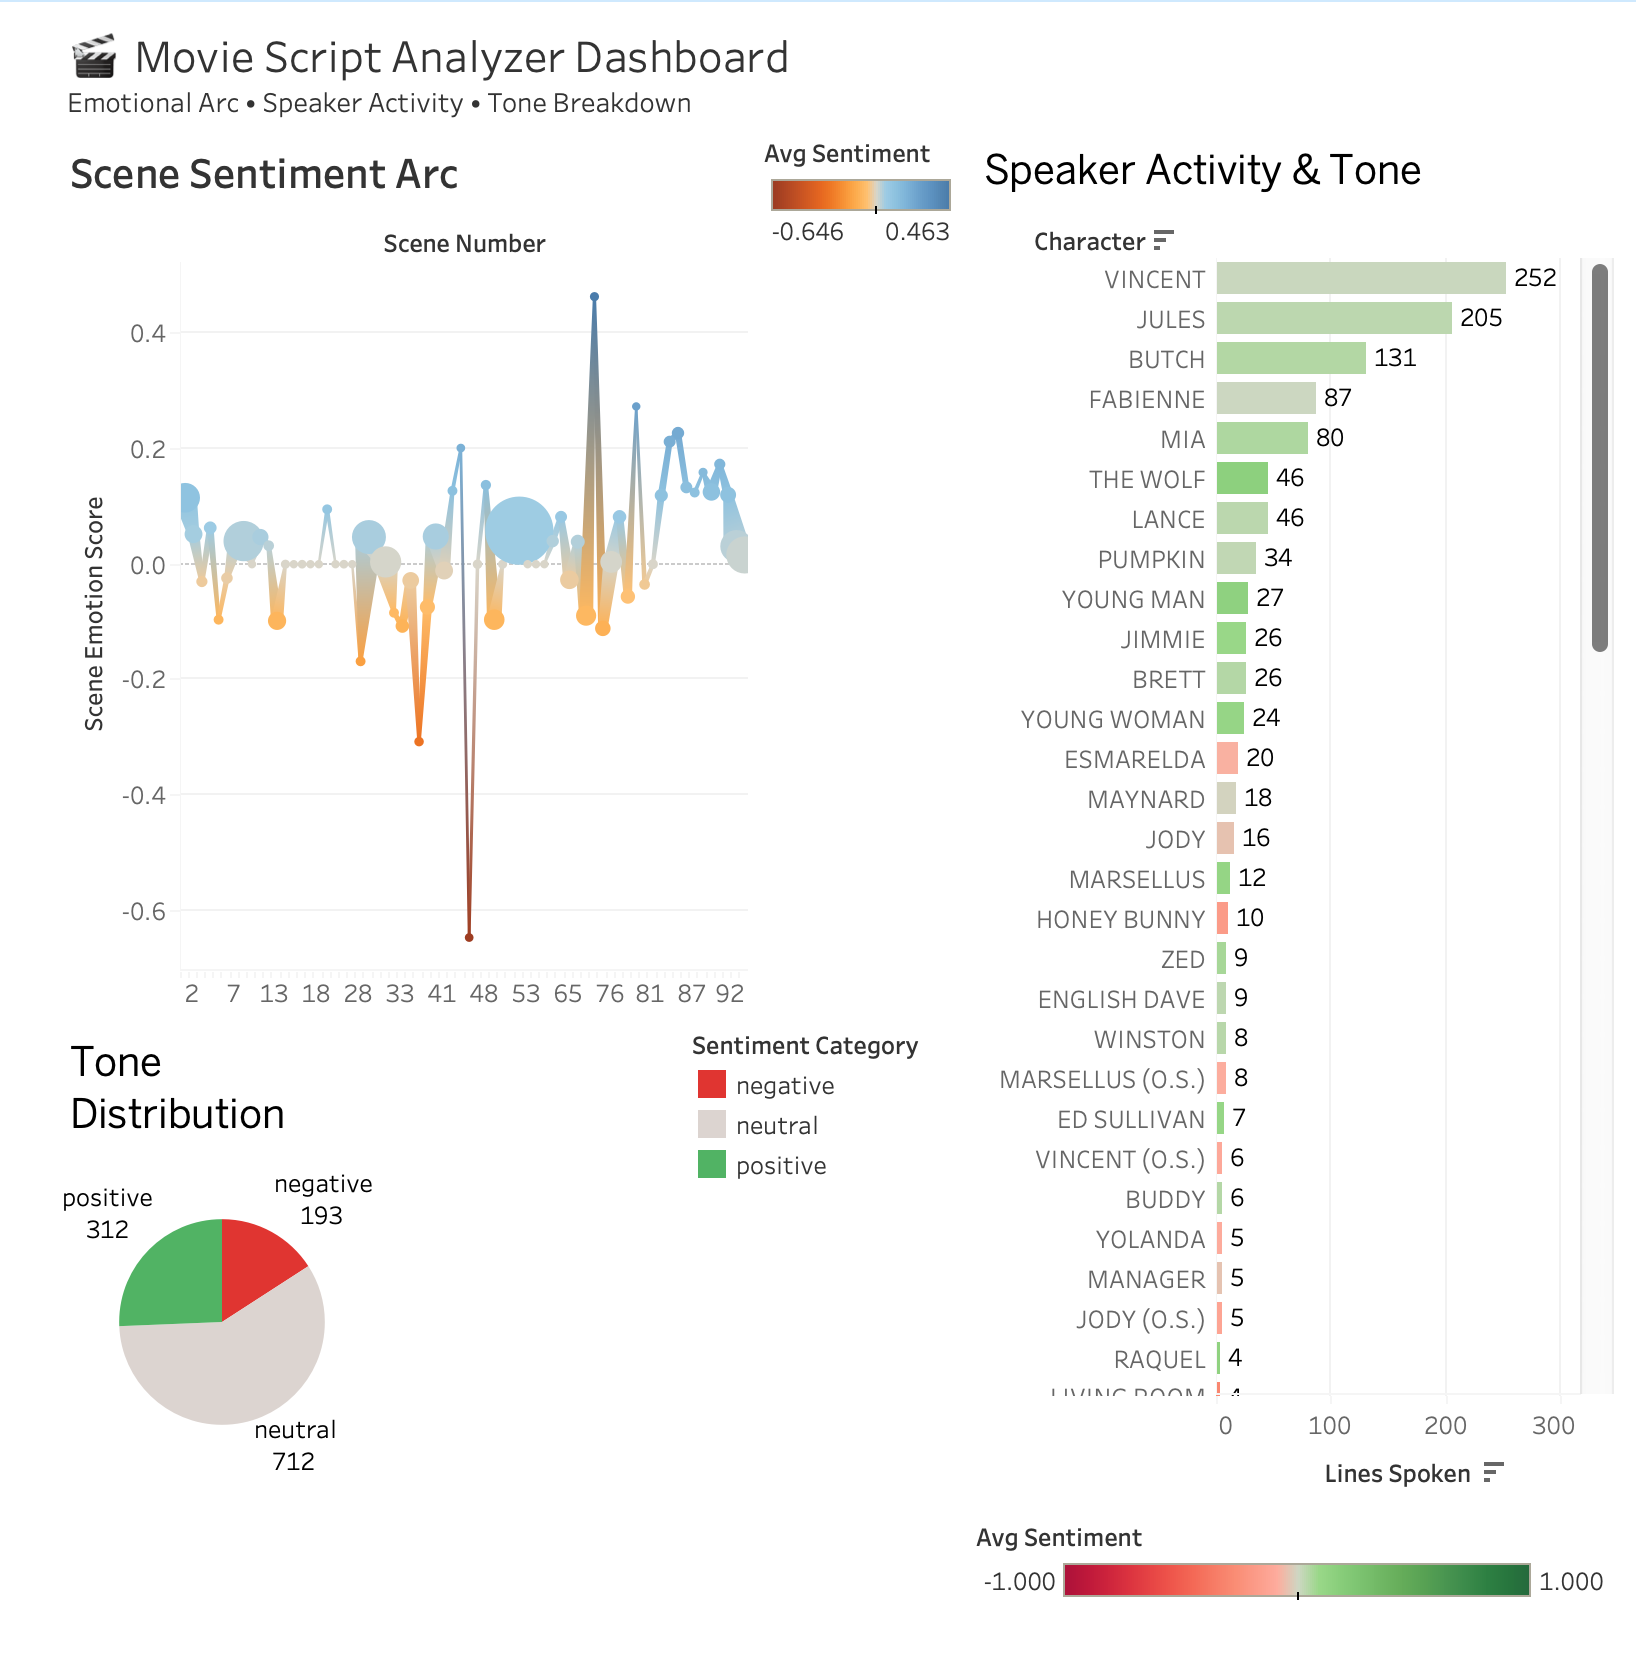

The page's visual inventory and layout, read from the dashboard file:
{"tool":"tableau","page":{"name":"Dashboard 1","canvas":[1000,1000],"units":"permille","ordinal":0},"visuals":[{"type":"title","box":[10,11.6,980,79.7]},{"type":"worksheet","title":"Sheet 1","mark":"Line","rows":["avg_sentiment"],"cols":["scene_number"],"box":[10,91.3,438.7,513.8]},{"type":"legend","title":"Sheet 1","param":"[federated.0v3q7tz1t5kd1q12qxan41gbs76g].[sum:avg_sentiment:qk]","box":[448.7,91.3,132.1,513.8]},{"type":"worksheet","title":"Sheet 2","mark":"Bar","rows":["character"],"cols":["total_lines"],"box":[580.8,91.3,409.2,797.3]},{"type":"worksheet","title":"Sheet 3","mark":"Pie","box":[10,605.1,393.2,383.4]},{"type":"legend","title":"Sheet 3","param":"[federated.083pstm195siv41ccdp1j0s11dlz].[none:sentiment_category:nk]","box":[403.2,605.1,177.7,383.4]},{"type":"legend","title":"Sheet 2","param":"[federated.098a7kz1wmkvl91evubvc17pavpy].[sum:avg_sentiment:qk]","box":[580.8,888.6,409.2,99.9]}]}

Visuals, with their boxes on the dashboard's canvas, which has no fixed pixel size, in thousandths of its width and height (x1, y1, x2, y2). These are canvas units, not pixel positions in the 1636x1664 screenshot, which may show the page scaled, cropped or inside an application window:
title: [10, 12, 990, 91]
"Sheet 1" worksheet (Line marks): [10, 91, 449, 605]
"Sheet 1" legend: [449, 91, 581, 605]
"Sheet 2" worksheet (Bar marks): [581, 91, 990, 889]
"Sheet 3" worksheet (Pie marks): [10, 605, 403, 988]
"Sheet 3" legend: [403, 605, 581, 988]
"Sheet 2" legend: [581, 889, 990, 988]
